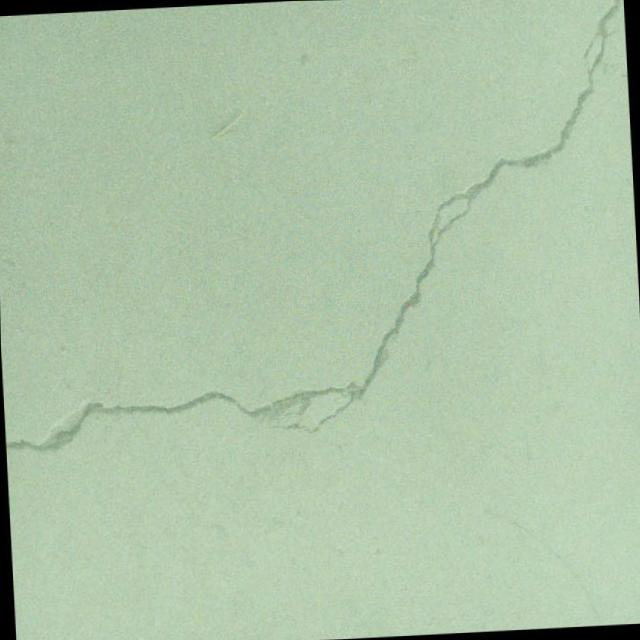crack: (0, 0, 640, 457), (147, 70, 204, 302)
